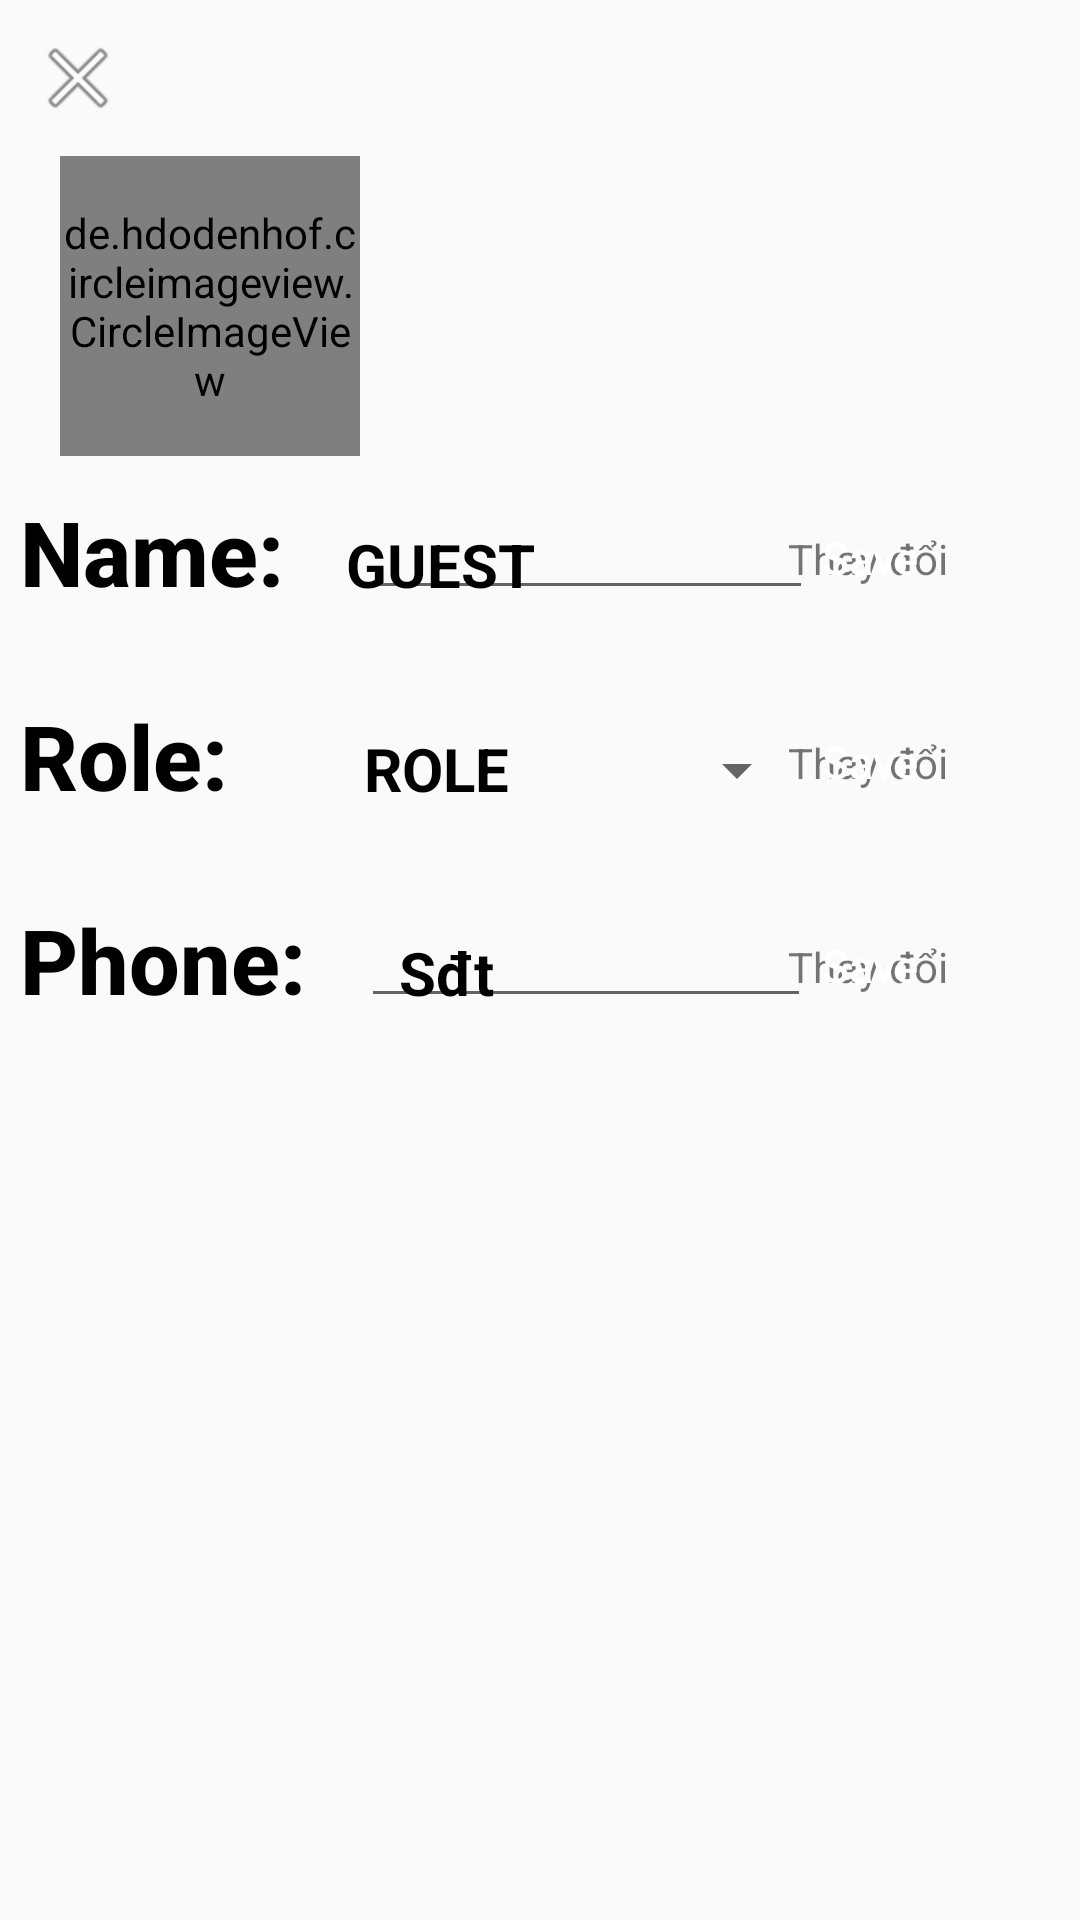

Where icons sit on this 1080×1920 app screen, as (x1, y1, x2, y2):
close clear cancel: (48, 48, 108, 108)
